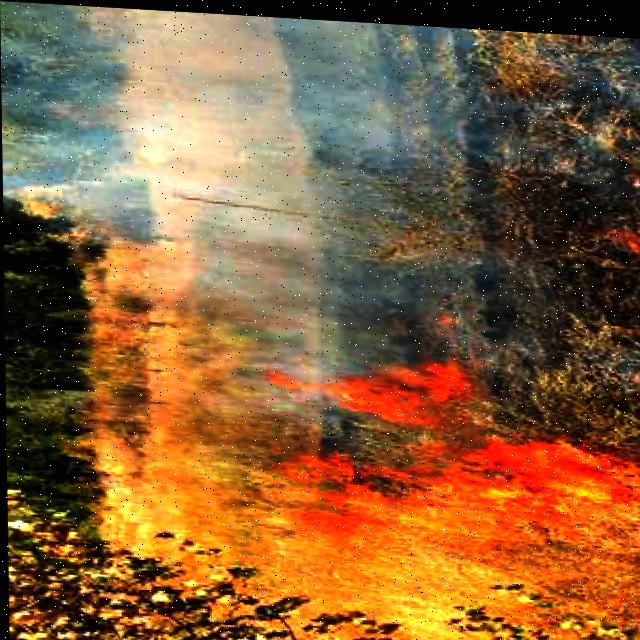Fire: (263, 406, 640, 554), (266, 342, 481, 423)
Smoke: (0, 0, 482, 328)
